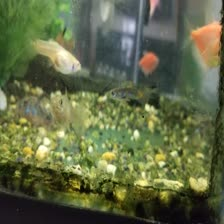Guppy: (24, 34, 86, 73), (103, 77, 153, 101)
Kiros: (13, 93, 94, 138)
